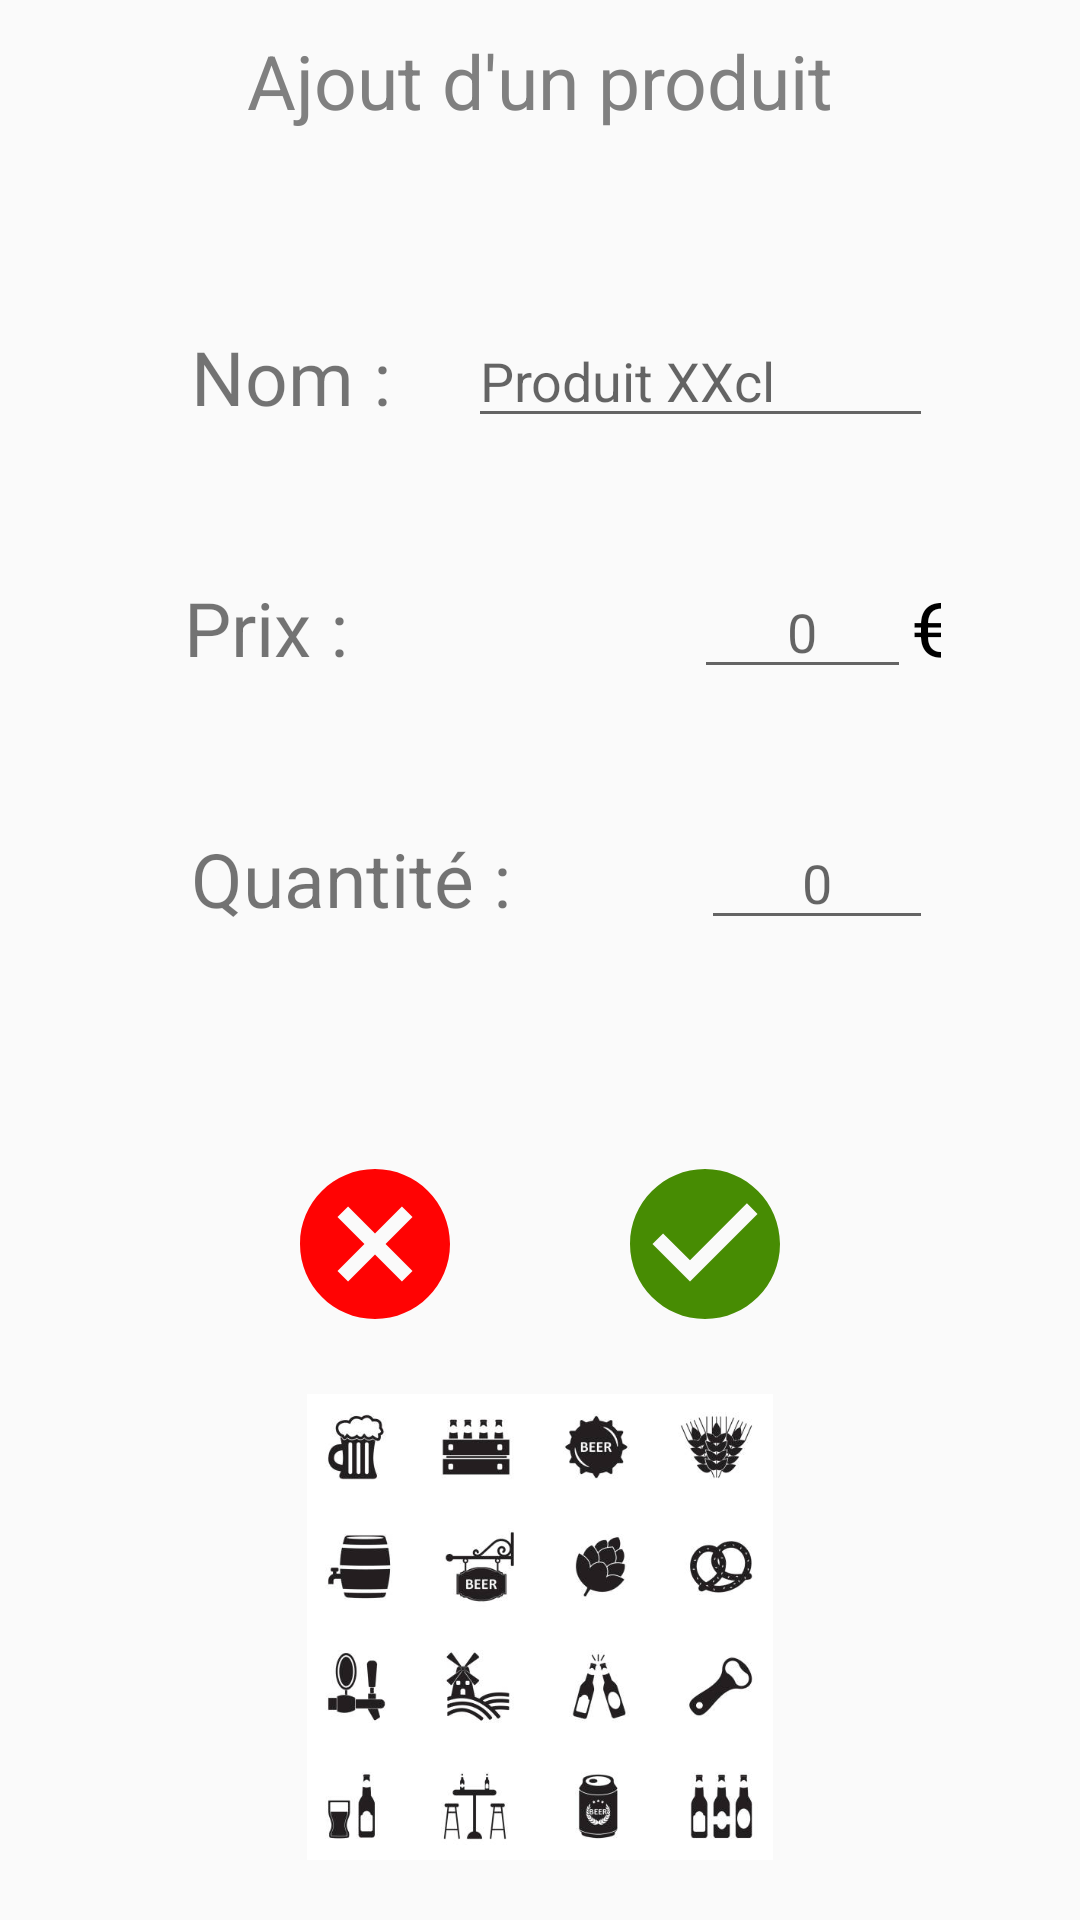

Screen size 1080 × 1920. Icon name, then its box in pixels as (x1, y1, x2, y2):
cancel: (300, 1169, 450, 1319)
check circle: (630, 1169, 780, 1319)
